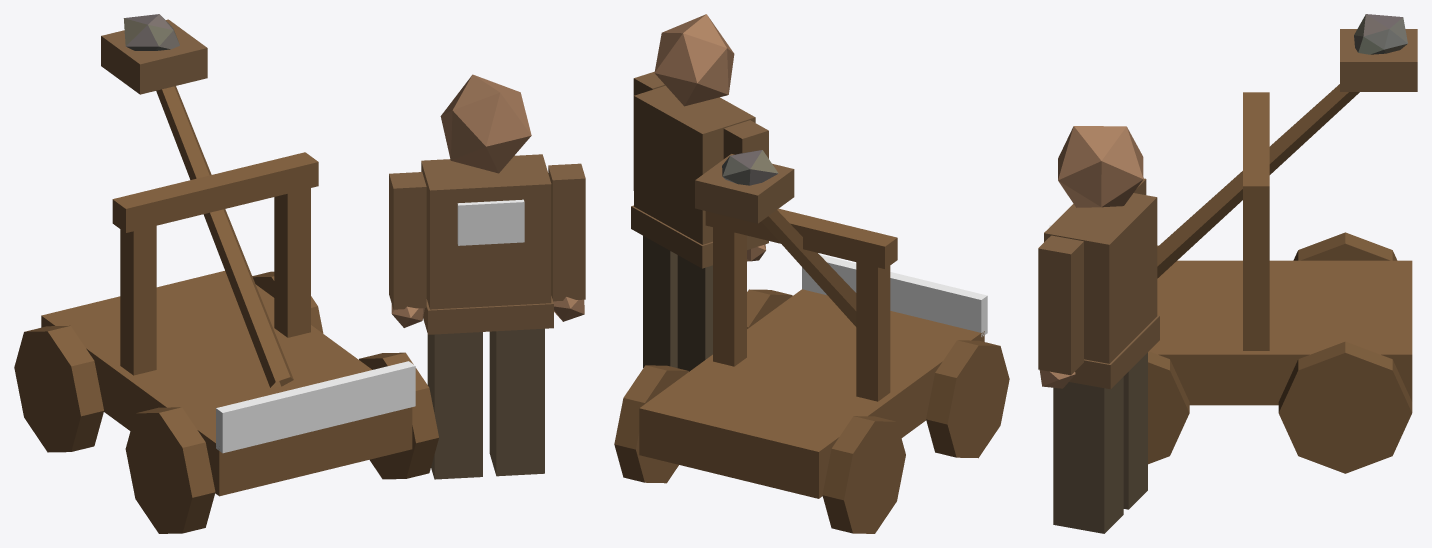
The model's file is Siege.glb.
3 renders of one model, left to right at view 1: azimuth 30°, elevation 25°; view 2: azimuth 150°, elevation 25°; view 3: azimuth 270°, elevation 25°, orthographic. The views are drawn at different scales.
Visible parts, largest first — view 1: Units_Siege; view 2: Units_Siege; view 3: Units_Siege.
Part boxes in pixels (x1,y1,x2,y2): Units_Siege: (14,14,585,533); Units_Siege: (614,14,1009,533); Units_Siege: (1038,14,1417,533).
Bounding box in the file's own units: 0.2056 × 0.1949 × 0.1705.
